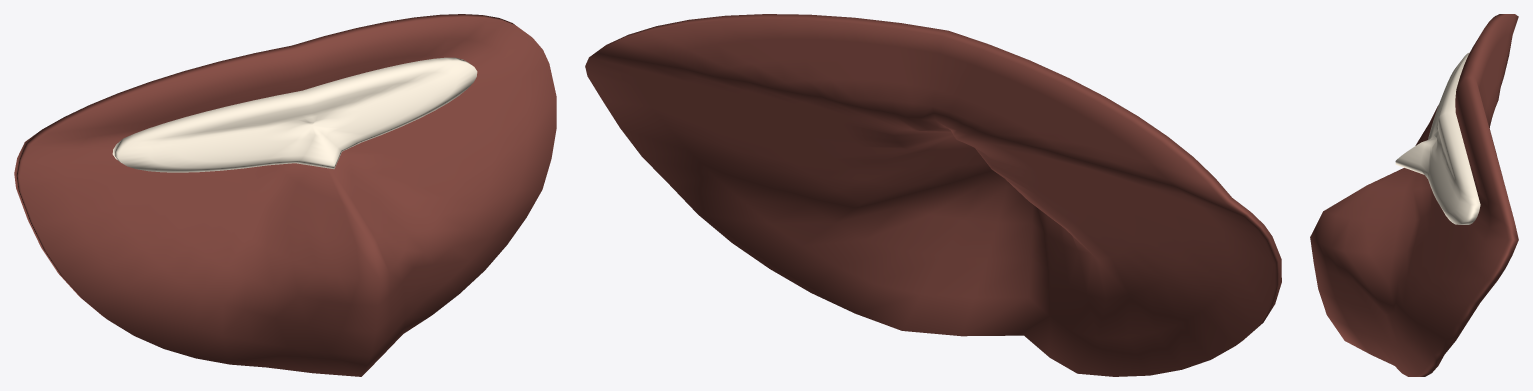
The model's file is 2HT-masculino.glb.
3 renders of one model, left to right at view 1: azimuth 30°, elevation 25°; view 2: azimuth 150°, elevation 25°; view 3: azimuth 270°, elevation 25°, orthographic. The views are drawn at different scales.
Visible parts, largest first — view 1: open-smile, smile-detail; view 2: open-smile; view 3: open-smile, smile-detail.
Part boxes in pixels (x1,y1,x2,y2): open-smile: (14,14,556,376); smile-detail: (112,57,477,172); open-smile: (585,14,1281,376); open-smile: (1310,14,1518,376); smile-detail: (1395,52,1480,224).
Size of the model in its own units: 0.0135 by 0.00685 by 0.00493.
